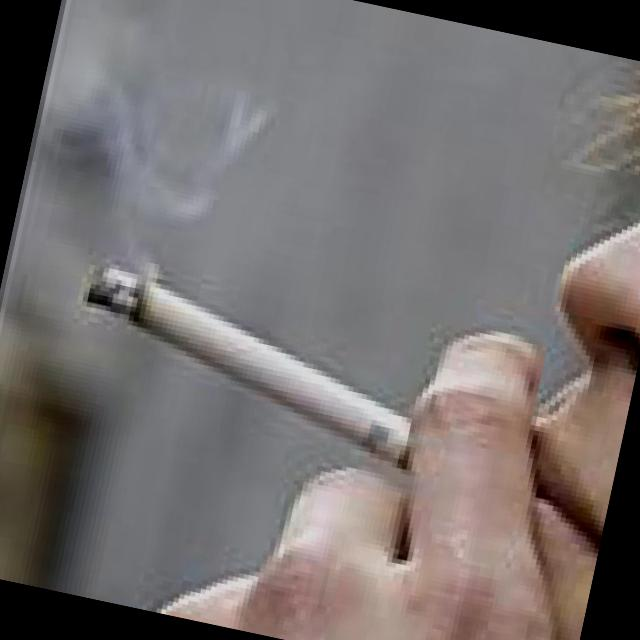cigarette: (49, 238, 433, 460)
